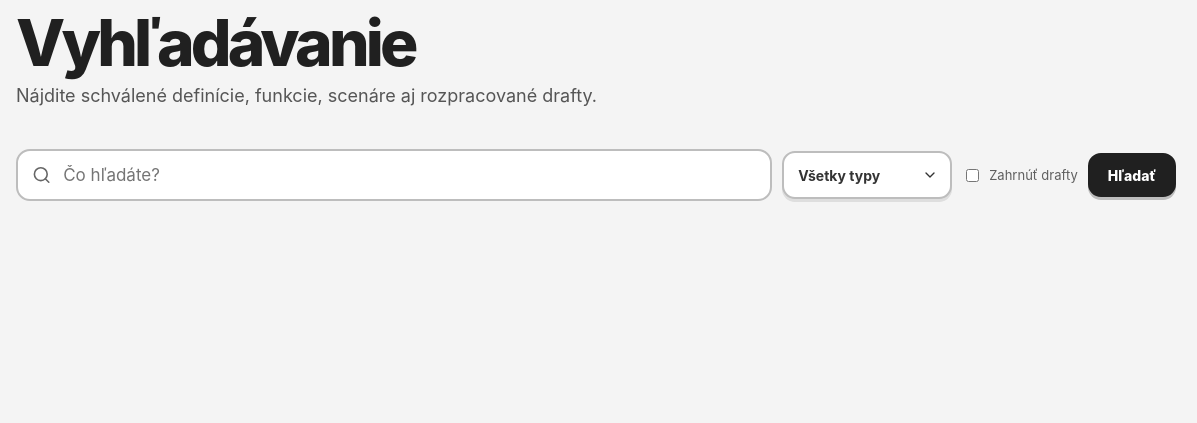
submits query, kind, and draft settings then shows the empty state
Type "internet" into the field with placeholder "Čo hľadáte?" at coordinates (409, 175), box left=61, top=164, right=756, bottom=186
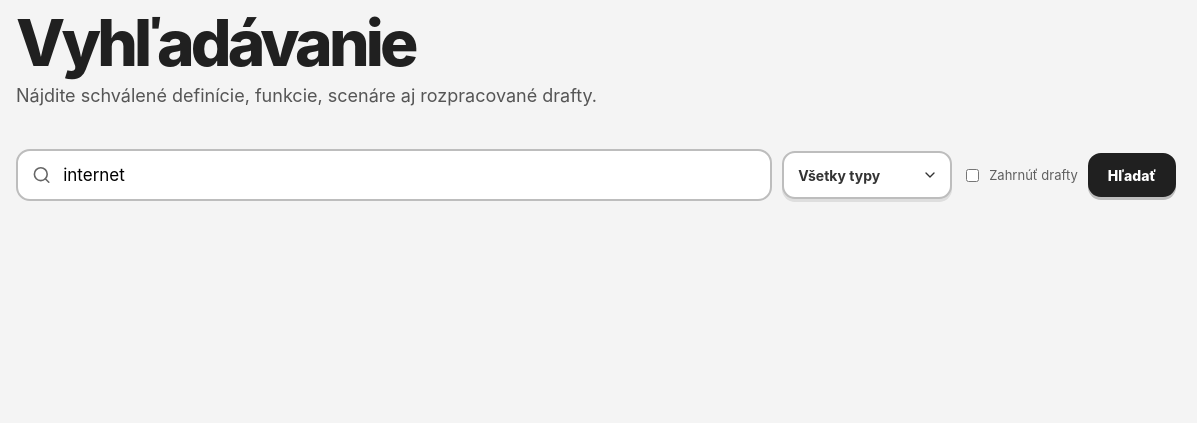
Click the button with aria-label "Typ stránky" at coordinates (867, 175), box left=782, top=151, right=952, bottom=199
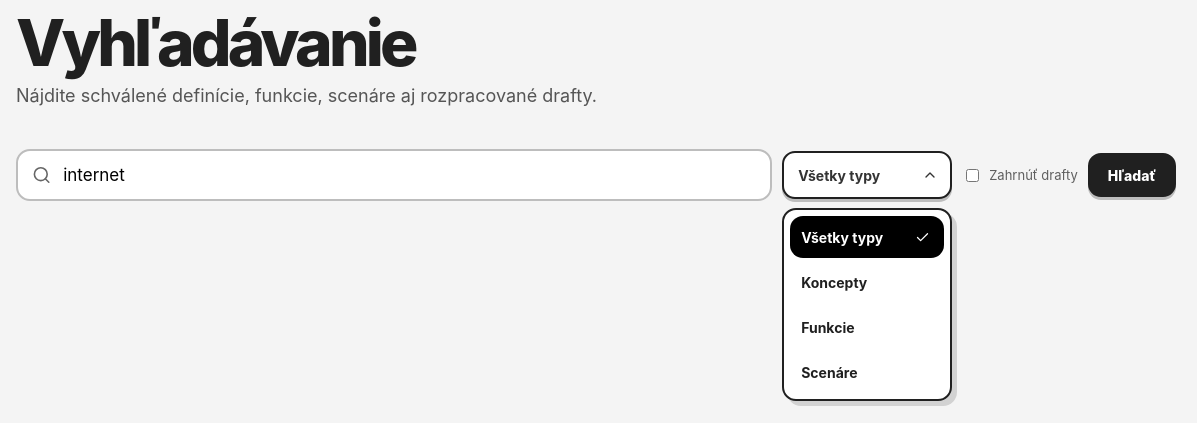
Click the option "Funkcie" at coordinates (867, 327), box left=790, top=306, right=944, bottom=348
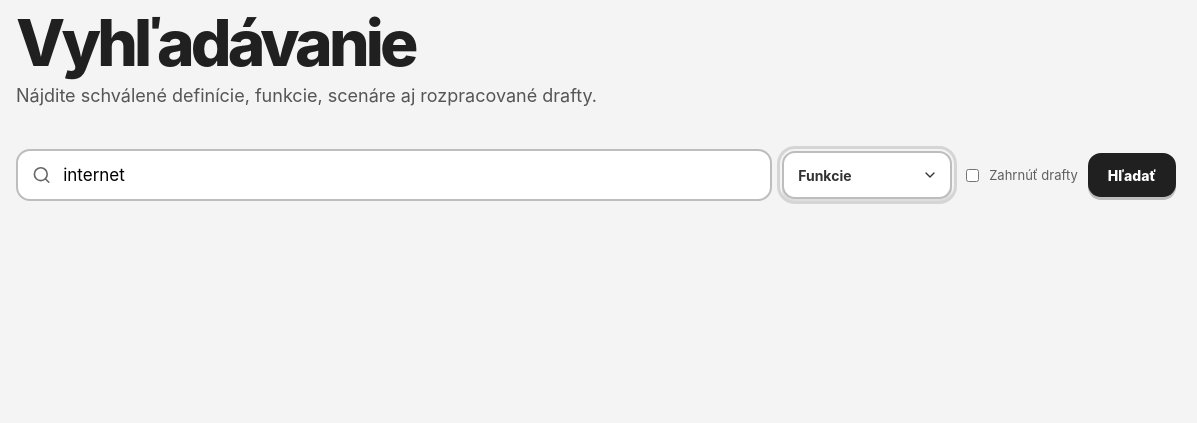
Click the checkbox labelled "Zahrnúť drafty" at coordinates (973, 175), box left=966, top=169, right=979, bottom=182
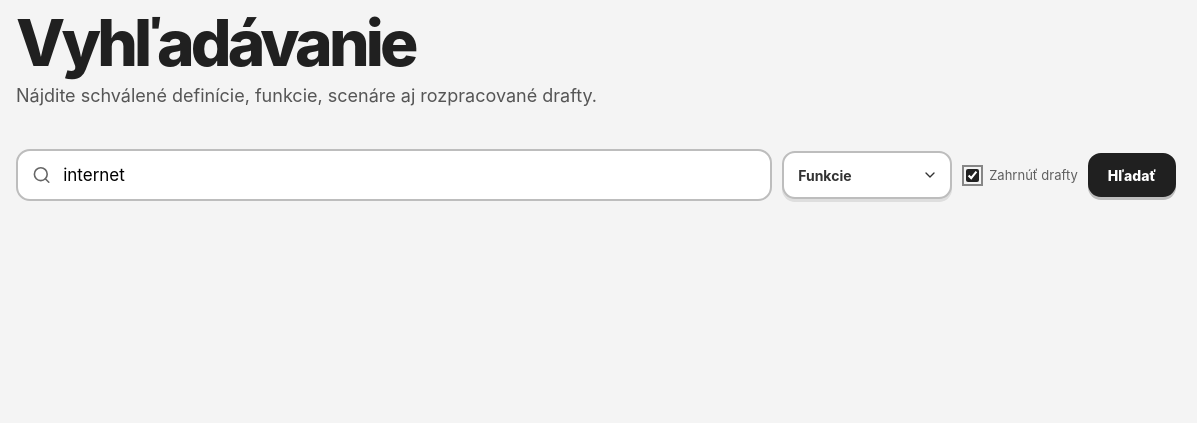
Click the button "Hľadať" at coordinates (1132, 175), box left=1088, top=153, right=1176, bottom=197
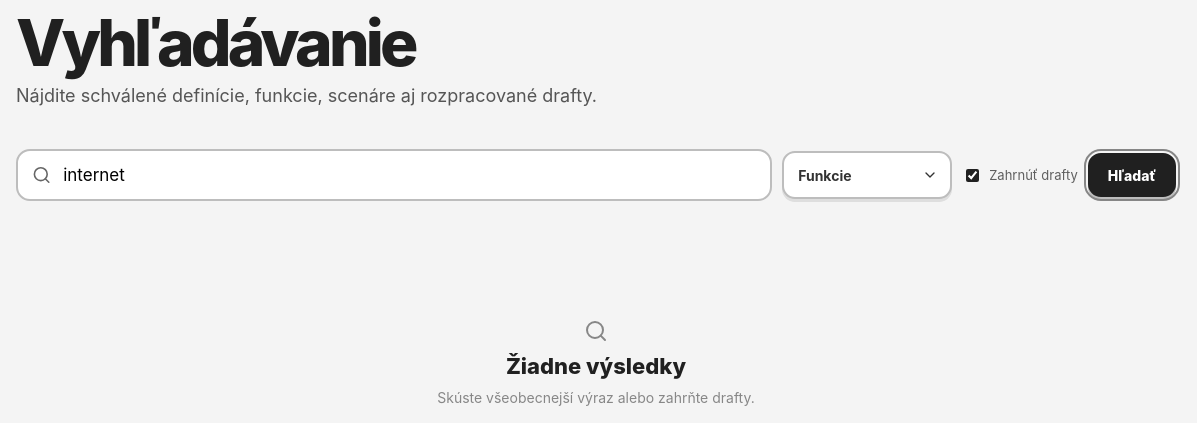
Check: the heading "Žiadne výsledky" is shown, box left=506, top=353, right=686, bottom=379
